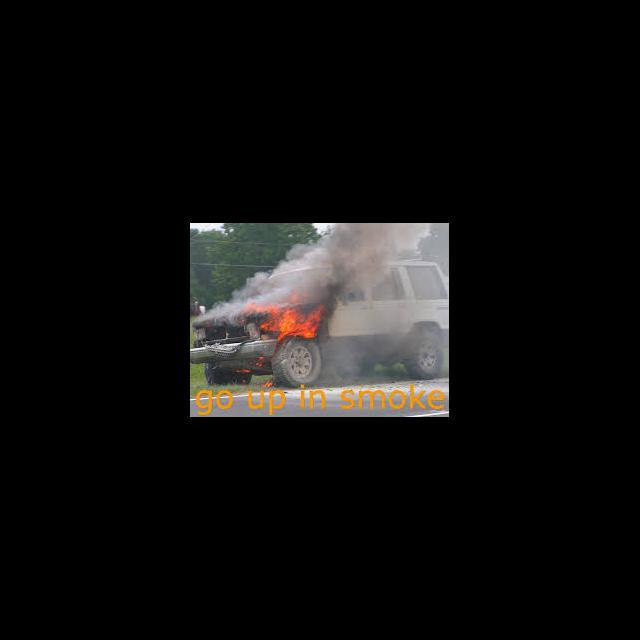Fire: (242, 293, 332, 345)
Smoke: (208, 224, 431, 314), (336, 225, 448, 370)
